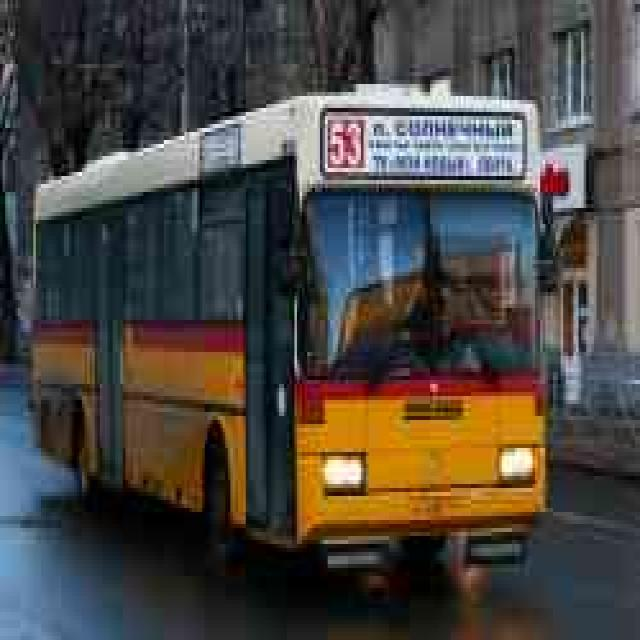number-of-bus: (328, 118, 365, 171)
